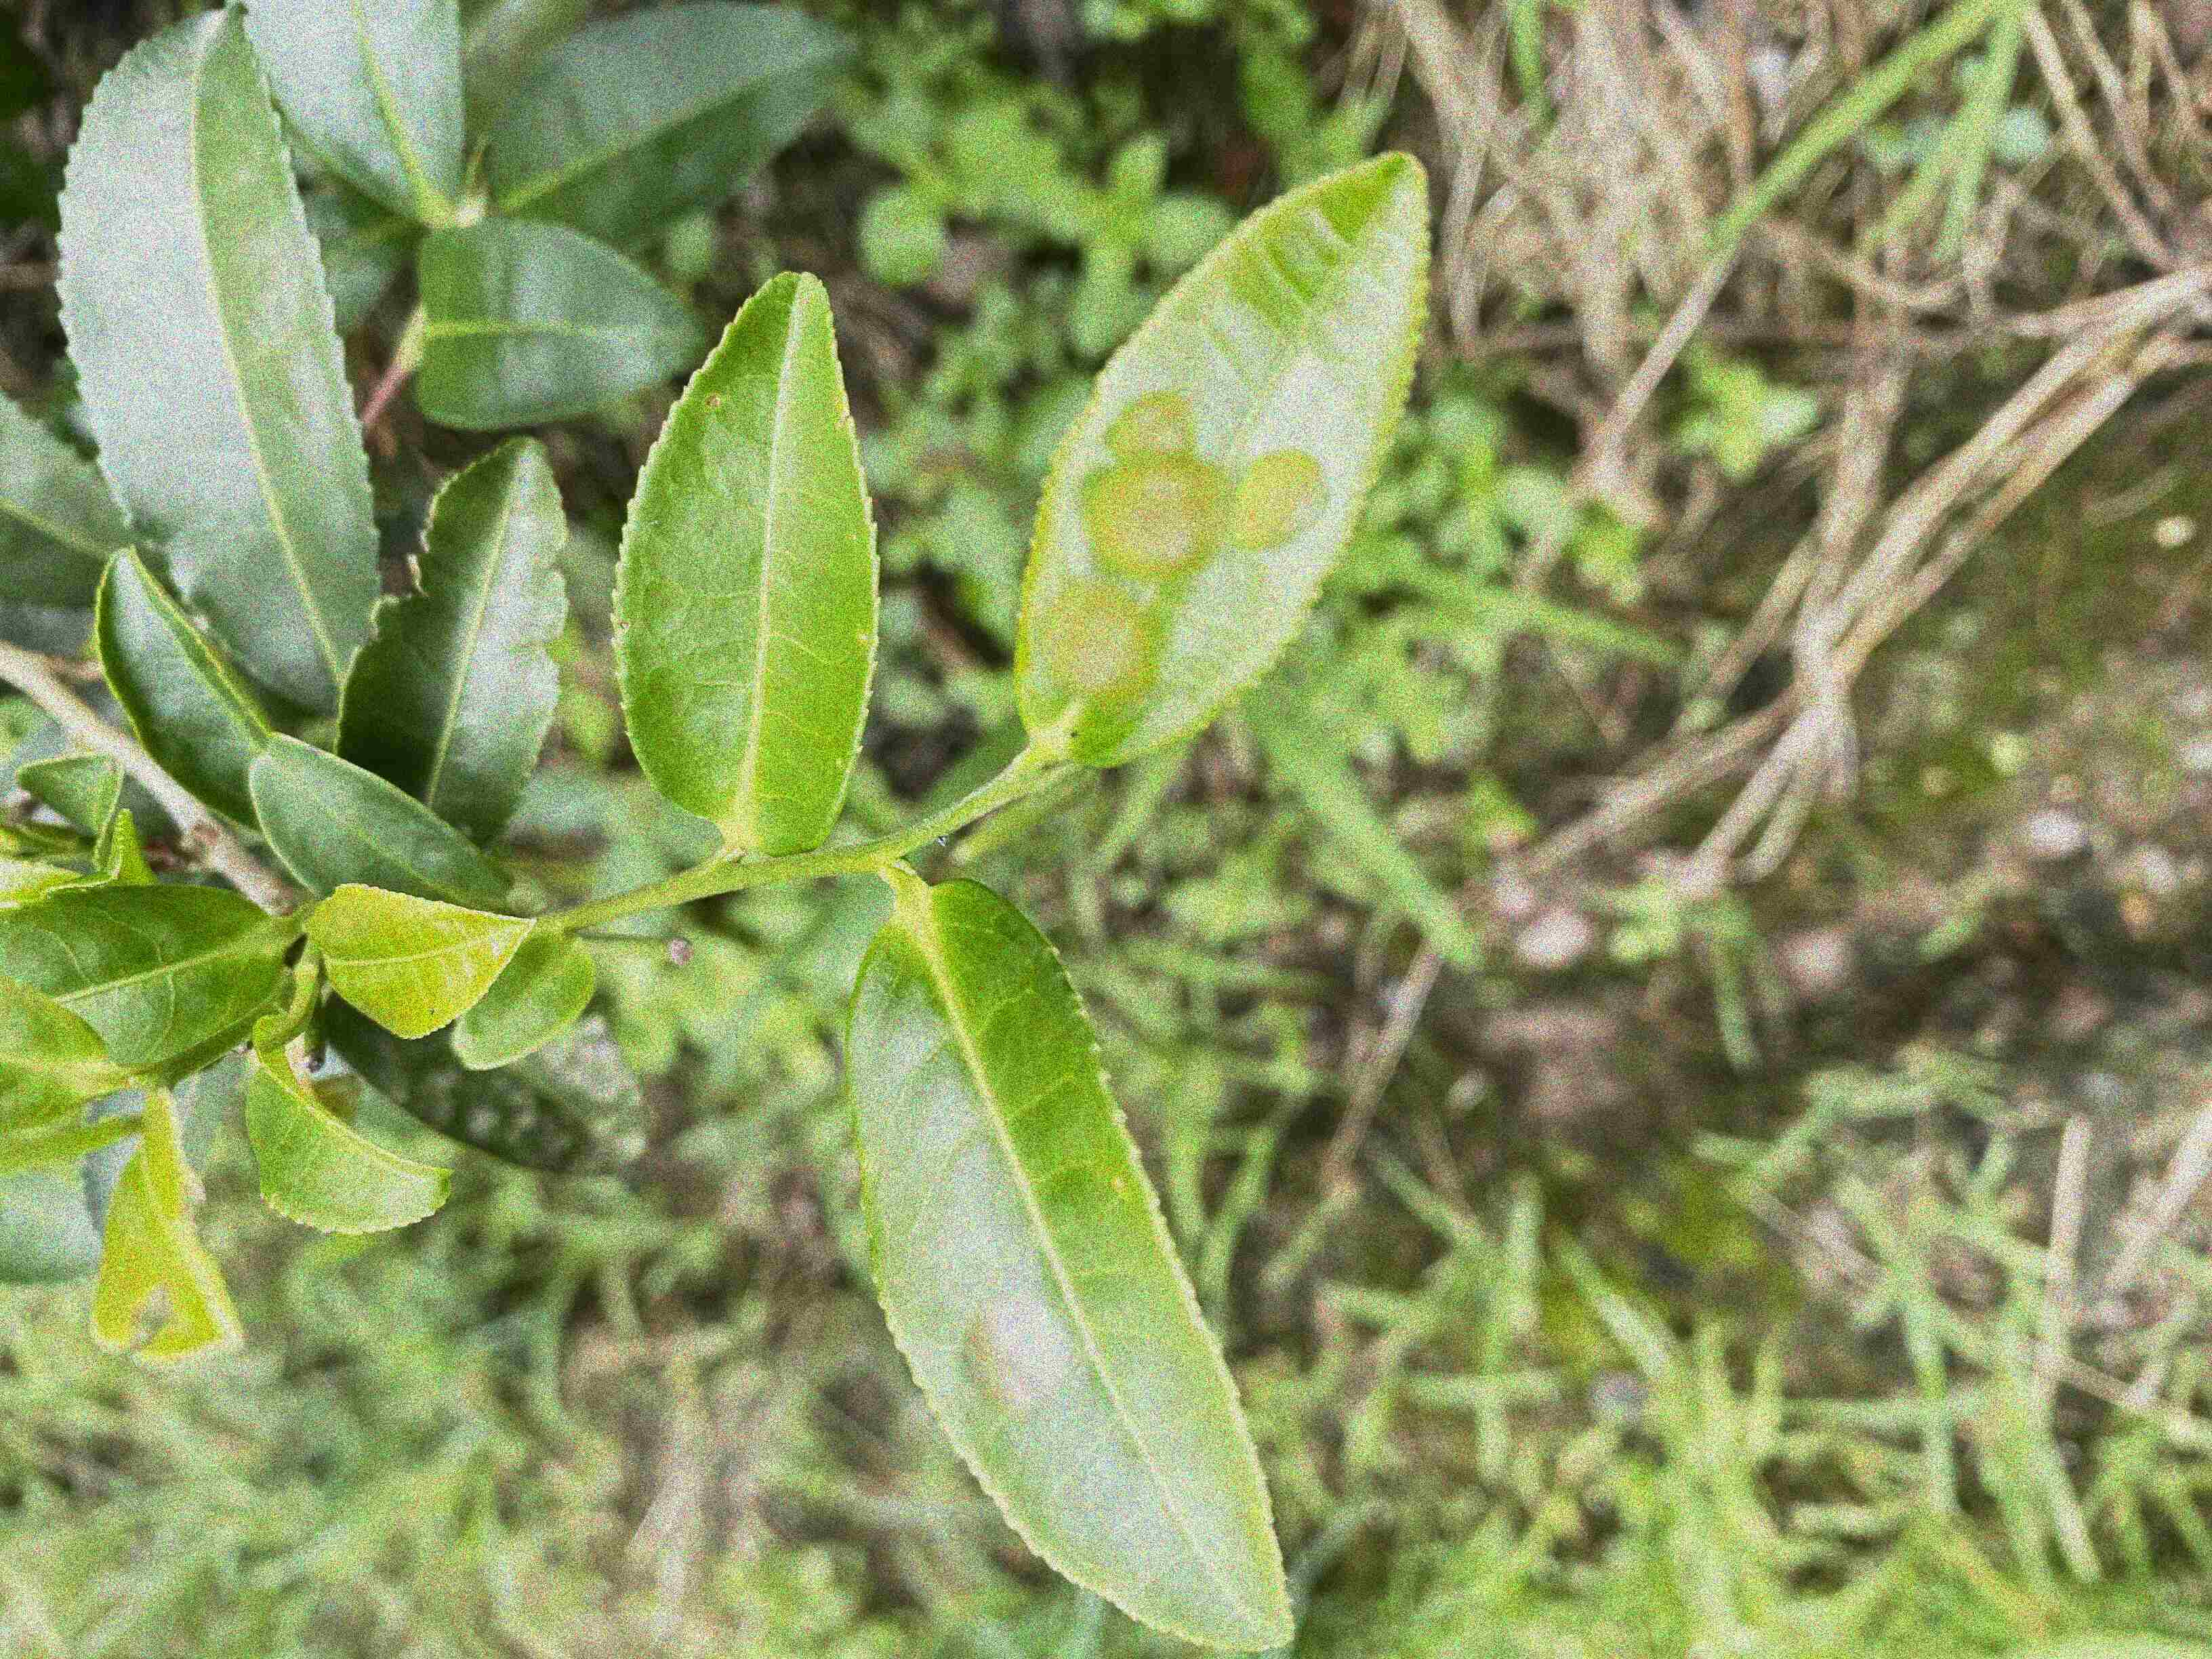chabing_high: (1012, 155, 1435, 770)
chabing_low: (848, 875, 1292, 1652)
chihuo_high: (336, 434, 575, 845), (84, 1087, 242, 1370)
healthy: (56, 3, 383, 708), (615, 265, 883, 856), (98, 554, 268, 835), (240, 1016, 458, 1236), (14, 751, 125, 870)
